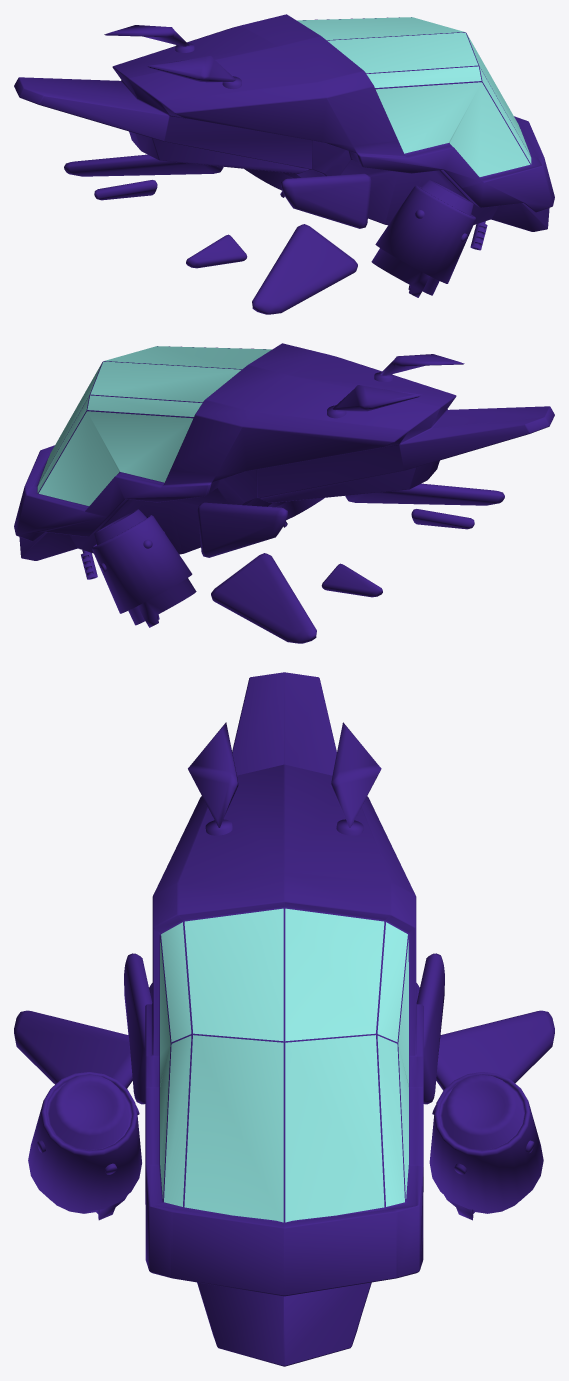
File: nave.fbx
The picture shows the model from 3 angles, top to bottom: view 1: azimuth 30°, elevation 25°; view 2: azimuth 150°, elevation 25°; view 3: azimuth 270°, elevation 25°; orthographic projection. The views are drawn at different scales.
Visible parts, largest first — view 1: pCylinder13; view 2: pCylinder13; view 3: pCylinder13.
Boxes of the visible parts, x1,y1,x2,y2 form: pCylinder13: [14, 14, 554, 314]; pCylinder13: [14, 343, 554, 643]; pCylinder13: [14, 672, 554, 1366].
Size of the model in its own units: 340 by 160 by 217.
